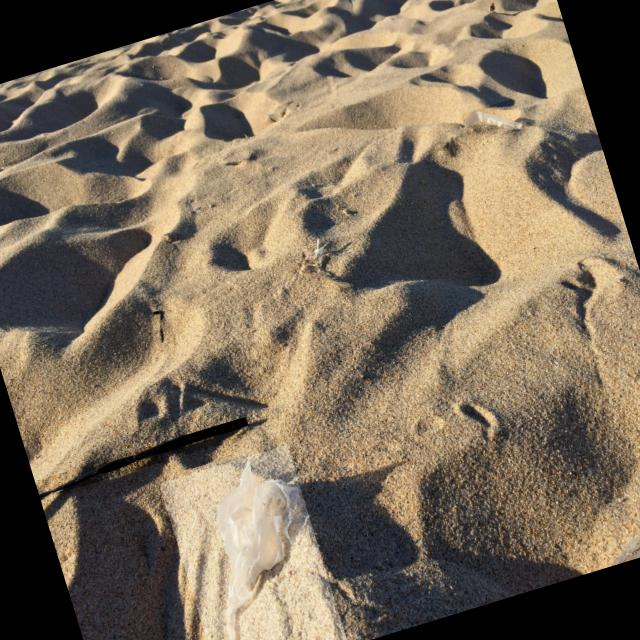Plastic film: (216, 456, 309, 640), (464, 110, 523, 129)
Straw: (39, 417, 248, 499)
